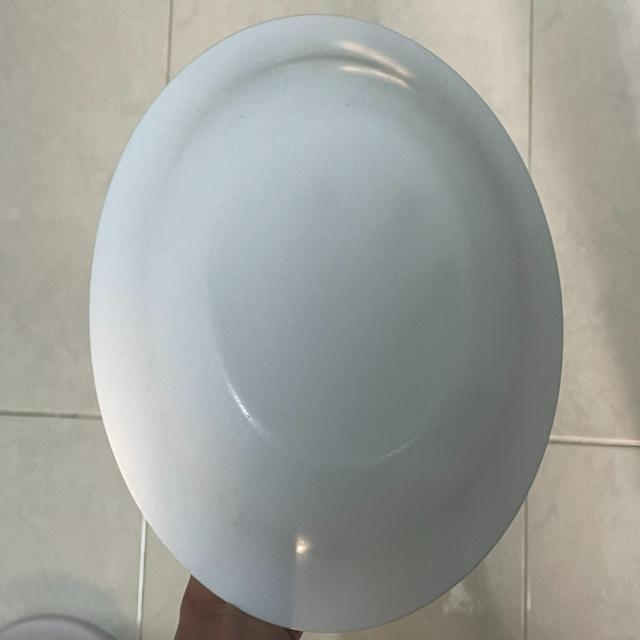plate: (94, 18, 566, 634)
